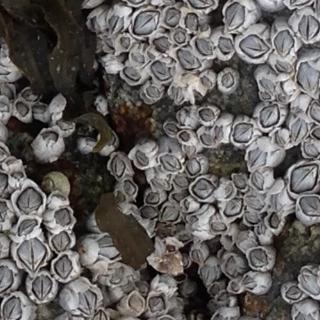Barnacle: (17, 237, 46, 272), (291, 163, 318, 193), (16, 186, 42, 215), (239, 34, 270, 58), (131, 9, 159, 34), (297, 62, 320, 92), (95, 233, 122, 258), (297, 15, 320, 42), (225, 2, 245, 31), (274, 30, 293, 58), (246, 146, 268, 169), (233, 122, 256, 144), (260, 103, 281, 127), (289, 118, 308, 144), (150, 60, 172, 82), (77, 289, 96, 314), (4, 295, 22, 320), (33, 275, 51, 300), (178, 50, 199, 71), (193, 179, 215, 199), (55, 253, 72, 278), (158, 154, 183, 171), (224, 198, 244, 218), (299, 197, 320, 216), (248, 248, 268, 267), (107, 14, 125, 35), (153, 35, 173, 53), (52, 231, 69, 252), (110, 156, 126, 178), (147, 297, 167, 314), (0, 266, 13, 292), (20, 218, 38, 236), (195, 39, 213, 57), (54, 208, 71, 227), (0, 53, 14, 76), (202, 264, 217, 285), (165, 8, 181, 27), (160, 207, 180, 222), (185, 11, 200, 31), (108, 267, 126, 283), (246, 195, 264, 211), (57, 116, 76, 131), (129, 294, 144, 312), (251, 171, 265, 190), (171, 85, 184, 105), (303, 142, 319, 158), (285, 285, 302, 300), (218, 38, 233, 55), (152, 176, 170, 190), (145, 86, 162, 100), (121, 68, 139, 81), (187, 157, 199, 175), (41, 129, 59, 141), (136, 152, 151, 166), (198, 133, 214, 146), (199, 108, 215, 121), (22, 90, 40, 101), (260, 78, 275, 91), (200, 73, 212, 89), (275, 62, 291, 74), (131, 53, 143, 69), (311, 102, 320, 123), (140, 208, 157, 219), (166, 123, 179, 137), (227, 258, 237, 276), (17, 102, 28, 118), (89, 16, 100, 32), (233, 175, 245, 189), (222, 73, 234, 87), (214, 125, 225, 140), (279, 80, 289, 96), (120, 36, 132, 49), (244, 212, 258, 223), (172, 176, 189, 185), (269, 213, 279, 228), (179, 109, 189, 124), (146, 192, 159, 203), (124, 181, 135, 194), (35, 105, 48, 116), (211, 222, 226, 231), (179, 255, 189, 268), (290, 105, 304, 114), (192, 250, 203, 261), (183, 144, 194, 155), (244, 279, 256, 289), (224, 184, 233, 196), (0, 99, 9, 111), (176, 31, 185, 43), (176, 233, 189, 241), (257, 223, 266, 234), (116, 191, 125, 202), (13, 171, 24, 180), (180, 132, 190, 141), (312, 128, 320, 139), (172, 194, 184, 201), (260, 92, 270, 100), (210, 286, 218, 295), (230, 282, 238, 291), (184, 200, 191, 210), (219, 294, 228, 300)
